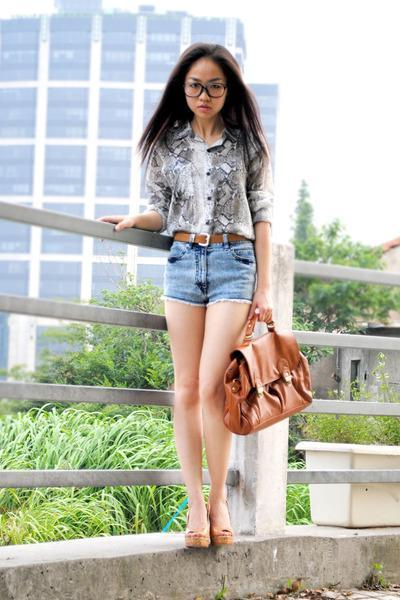Shorts: (161, 232, 262, 309)
long sleeve shirt: (118, 125, 277, 233)
